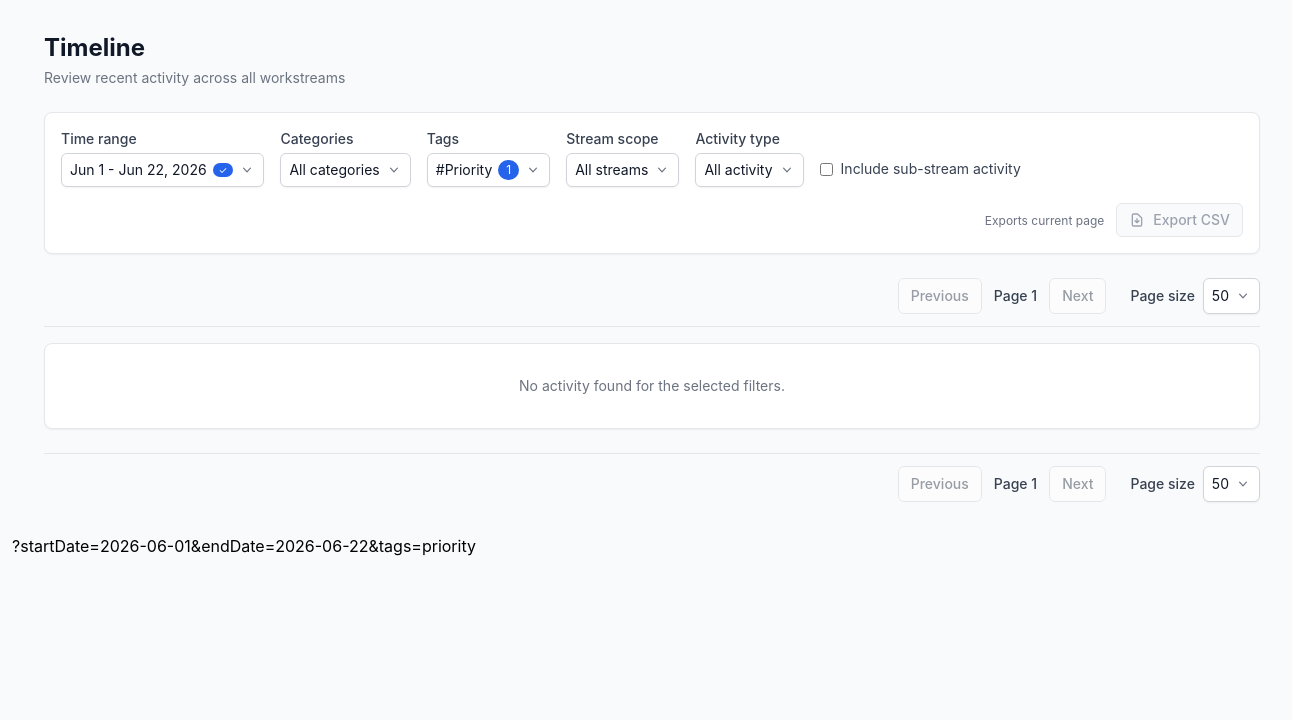
Test case: Timeline URL state › updates start and end dates atomically when date range controls set both values
Step 1. Click the button "Jun 1 - Jun 22, 2026 ✓" → (163, 170), box [61,153,264,187]
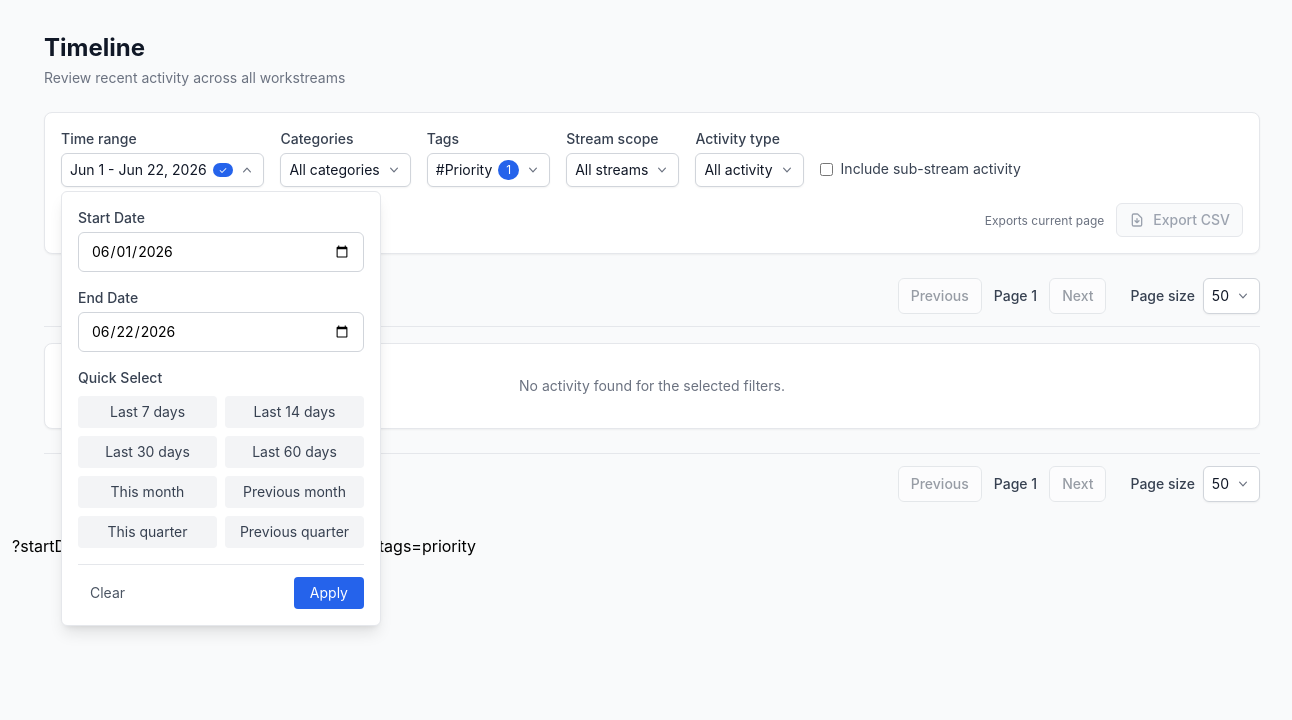
Step 2. Click the button "Clear" → (108, 593), box [78,577,137,609]
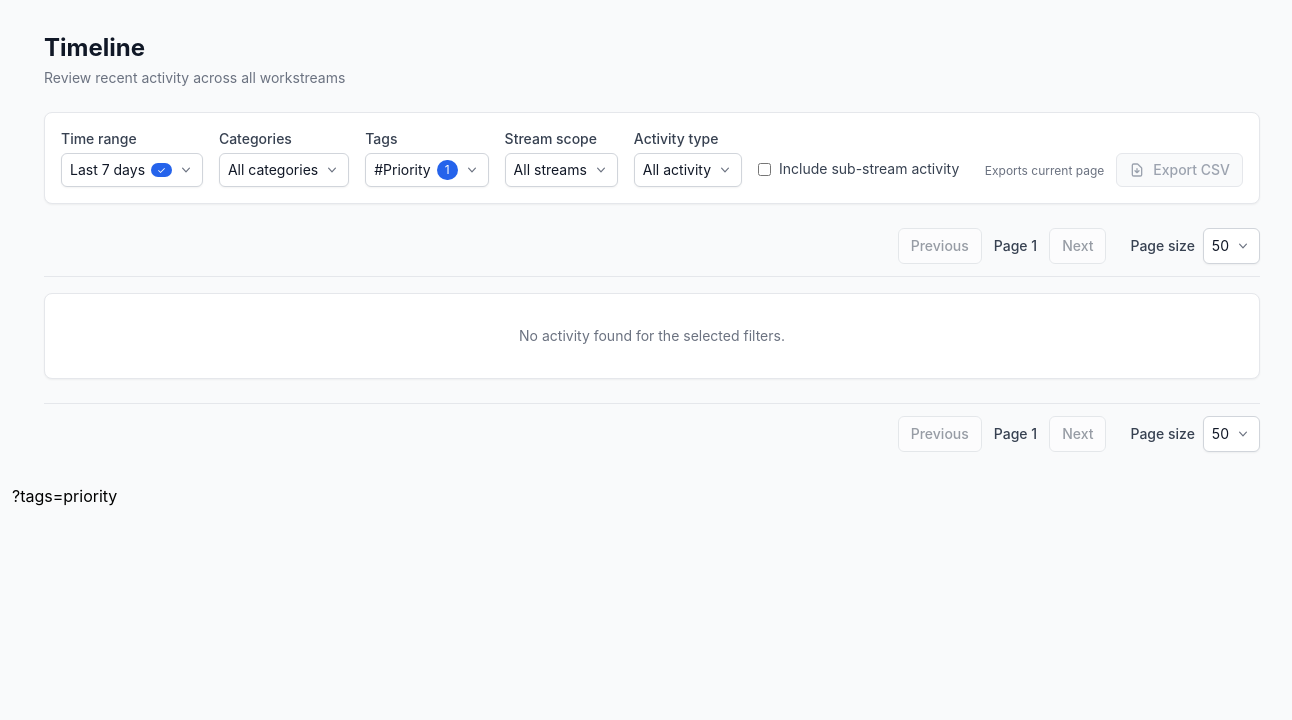
Expected: the text with test id "location" shows "tags=priority", [12,486,117,506]
Now the text with test id "location" no longer shows "startDate=", box [12,486,117,506]
Now the text with test id "location" no longer shows "endDate=", box [12,486,117,506]
